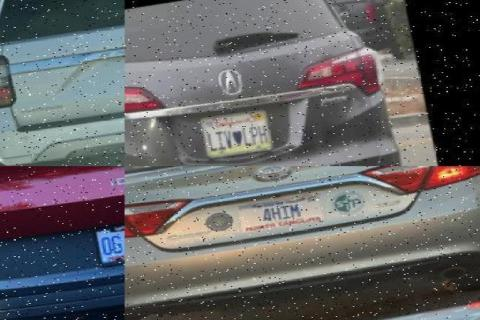LicensePlate: (194, 99, 282, 163), (237, 192, 327, 234), (95, 225, 123, 267)
